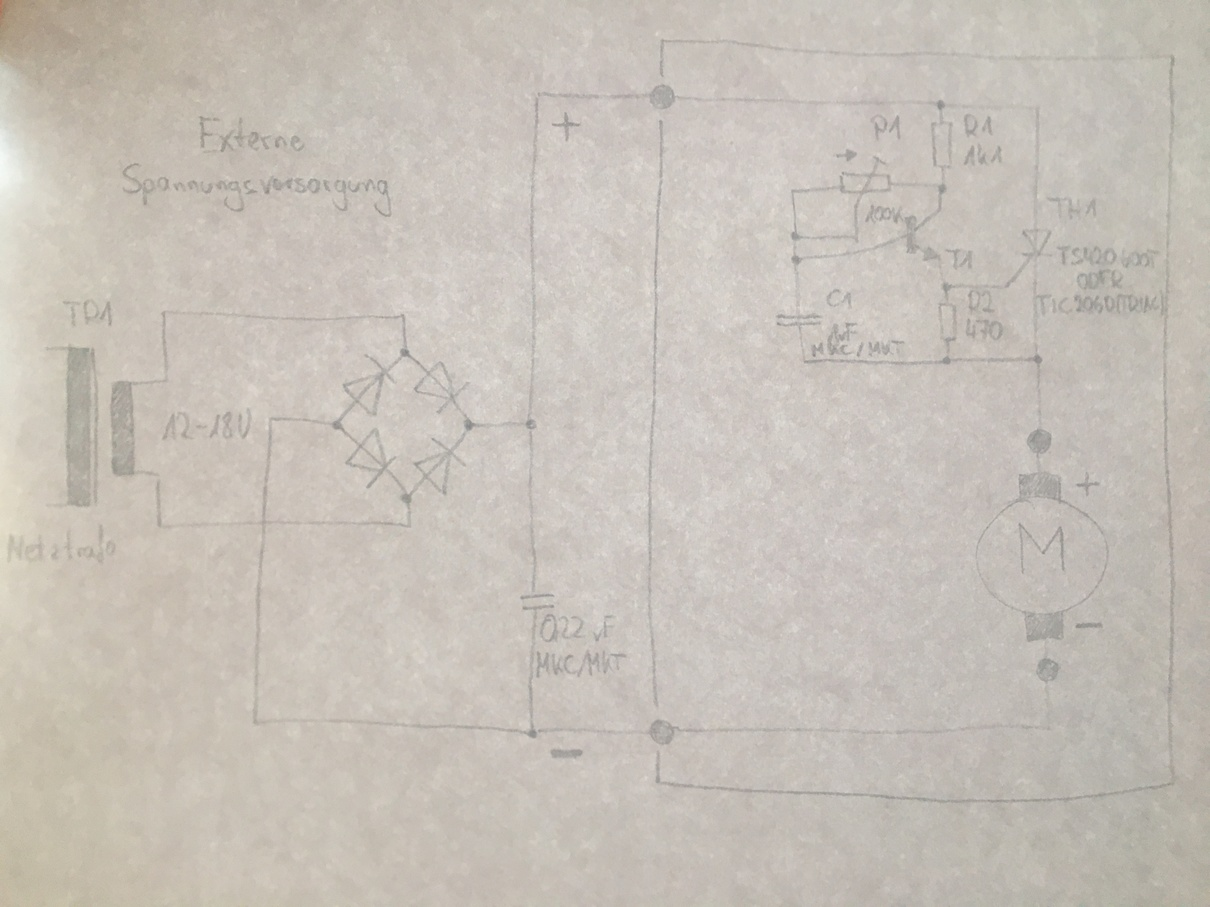capacitor.unpolarized: (773, 310, 825, 331), (518, 589, 558, 614)
crossover: (258, 516, 271, 528)
diode: (343, 353, 396, 416), (345, 427, 396, 489), (413, 437, 466, 496), (414, 360, 469, 413)
junction: (523, 725, 542, 740), (523, 417, 540, 433), (1039, 720, 1055, 736), (939, 279, 955, 294), (934, 179, 949, 195), (1030, 352, 1047, 366), (462, 417, 476, 432), (248, 715, 263, 729), (152, 469, 165, 484), (789, 253, 804, 266), (398, 492, 414, 504), (330, 418, 343, 432), (935, 98, 948, 112), (398, 346, 411, 359), (532, 88, 545, 101), (941, 354, 953, 367), (790, 230, 802, 243), (997, 281, 1011, 292), (1030, 104, 1044, 115), (403, 519, 415, 531), (154, 519, 165, 531), (266, 413, 276, 426), (399, 310, 410, 321), (159, 308, 170, 318), (788, 186, 799, 196), (850, 233, 861, 243), (161, 375, 171, 385), (800, 356, 810, 366)
motor: (972, 467, 1114, 644)
resistor: (928, 119, 955, 171), (936, 300, 960, 344)
resistor.adjustable: (837, 154, 893, 208)
terminal: (42, 344, 53, 354), (43, 500, 52, 511)
text: (119, 160, 395, 221), (3, 521, 120, 568), (197, 113, 305, 158), (160, 406, 255, 443), (1036, 293, 1165, 317), (535, 648, 628, 680), (1054, 244, 1160, 271), (537, 611, 616, 646), (807, 339, 905, 358), (60, 296, 115, 329), (1045, 194, 1099, 222), (961, 142, 1005, 170), (1073, 269, 1124, 291), (869, 112, 904, 142), (964, 318, 1005, 343), (863, 202, 904, 225), (962, 112, 996, 139), (944, 246, 976, 272), (965, 289, 995, 316), (826, 320, 859, 343), (824, 287, 854, 312)
thyristor: (1016, 226, 1053, 265)
transformer: (60, 340, 140, 512)
transistor: (904, 206, 944, 266)
